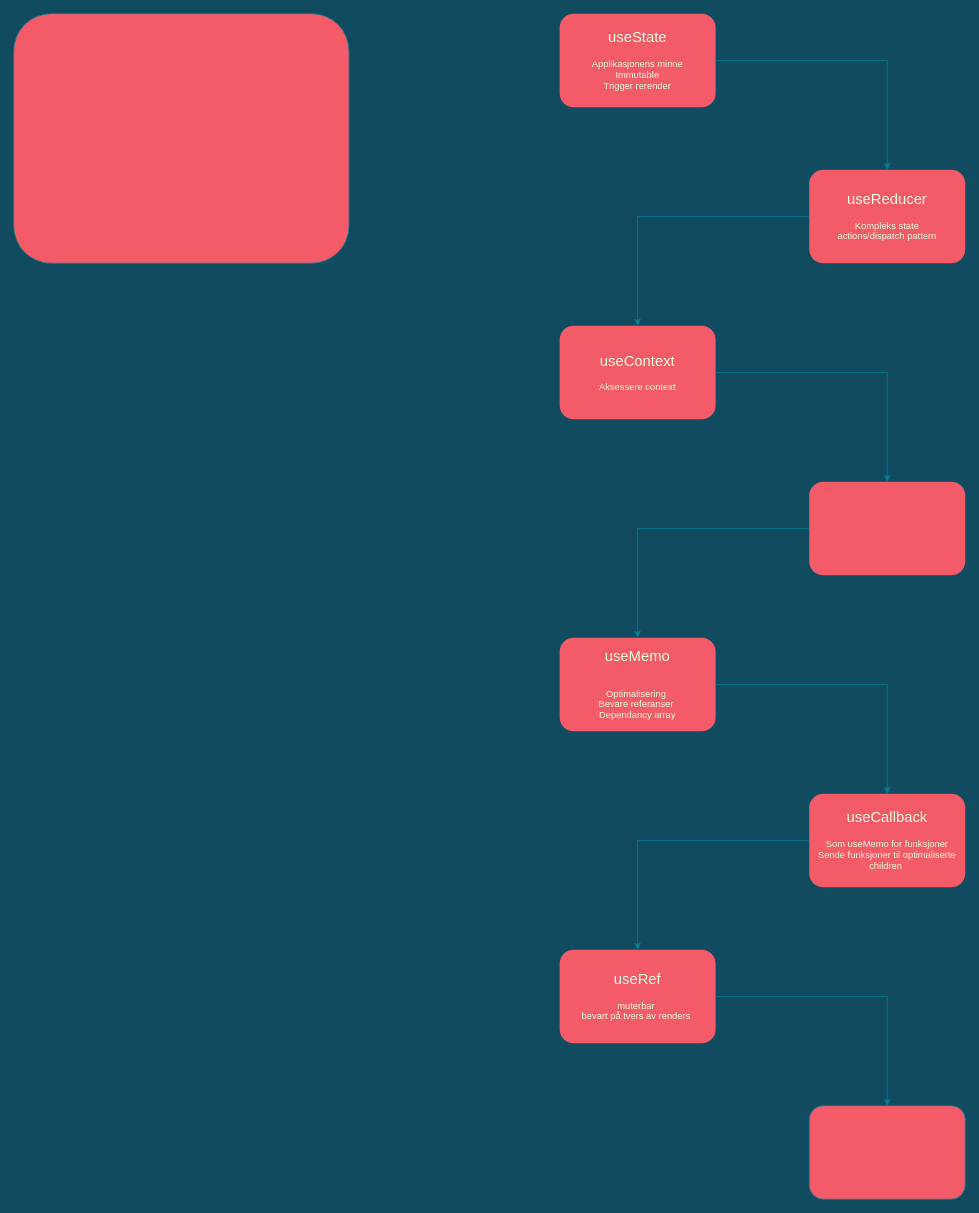
Some shapes in this 979 by 1213 pixel diagram are drawn without their labels. The centre of each missing label's shape, as x and y in pixels:
... useImperativeHandle useLayoutEffect useDebugValue Custom hooks!: pixel 886 1152
Rules Only call hooks at the top level Only Call Hooks from React Functions: pixel 181 138
useEffect Lifesycle events Håndtere sideeffekter Dependancy array: pixel 887 528
